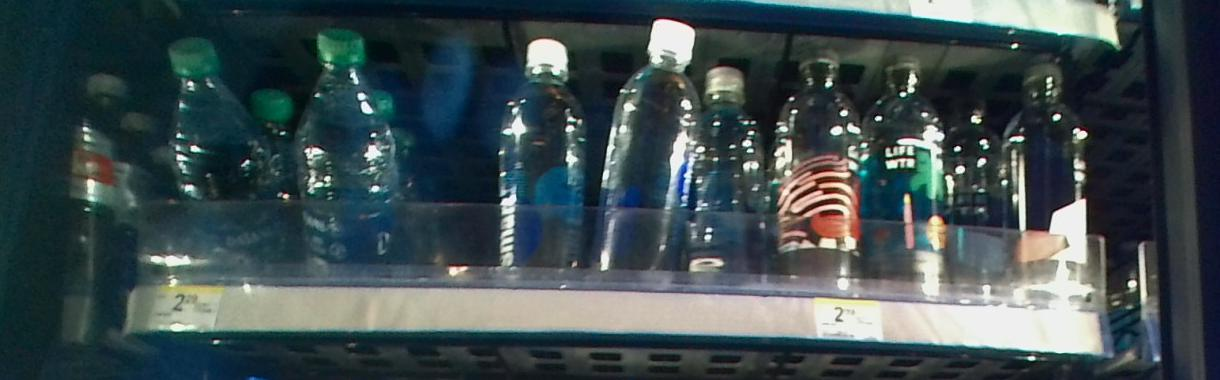bottle: (290, 23, 404, 280), (156, 34, 274, 274), (604, 12, 695, 288), (499, 37, 590, 290), (865, 48, 953, 307), (778, 46, 862, 297), (1009, 55, 1087, 302), (704, 54, 769, 298), (951, 88, 999, 291)
